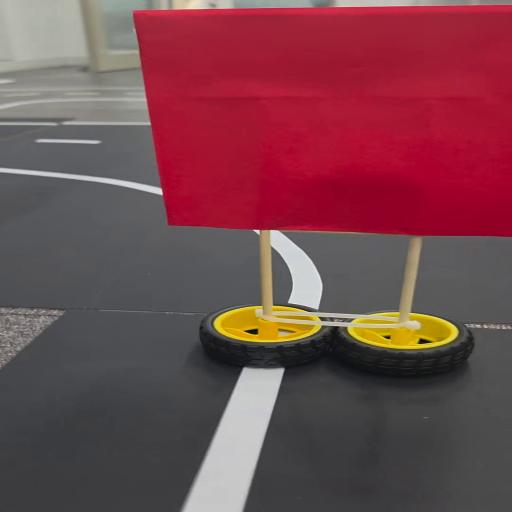Sign_A: (136, 6, 512, 392)
